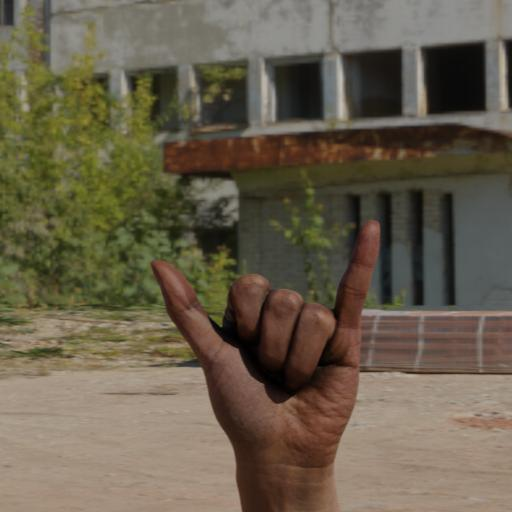Y: (128, 197, 396, 512)
